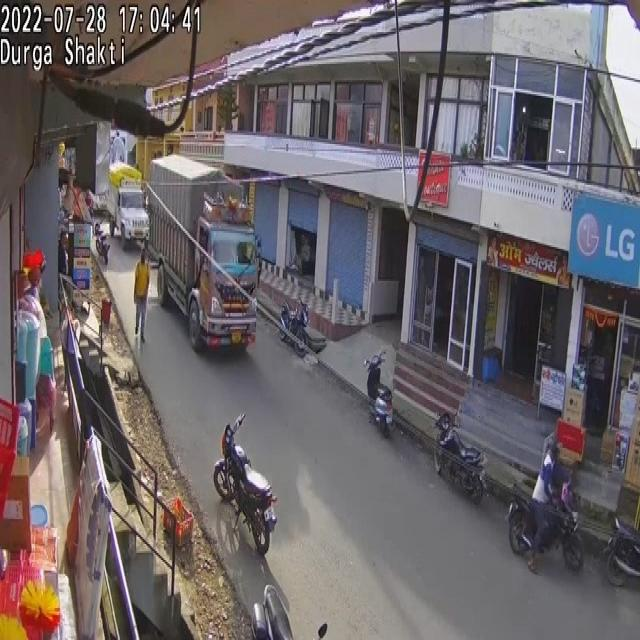non-fight: (528, 438, 572, 570), (133, 243, 150, 344)
